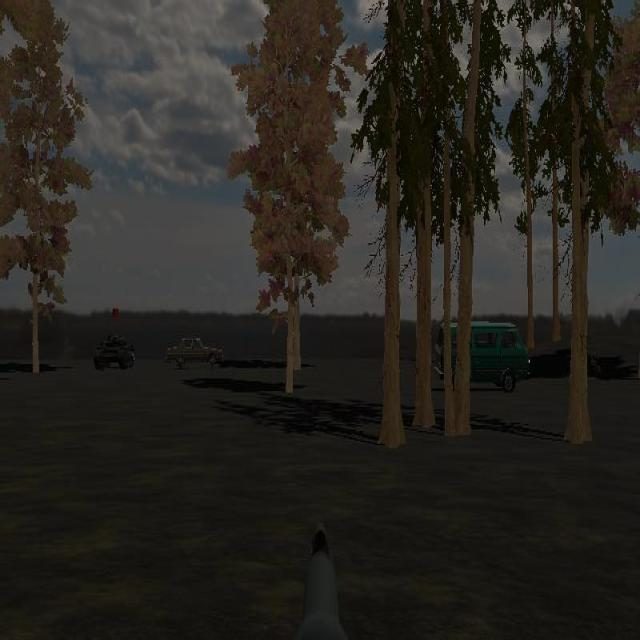Tank: (94, 332, 135, 371)
car: (433, 319, 530, 392), (167, 335, 223, 368)
